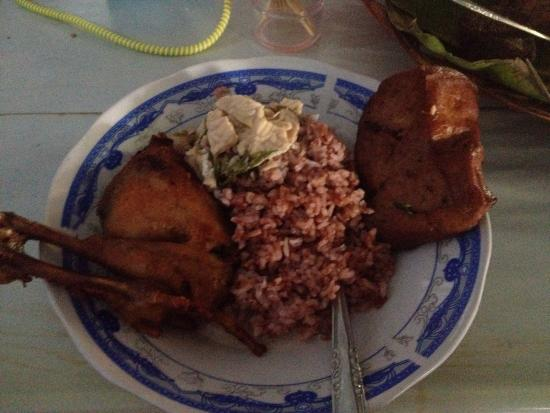Nasi Merah: (179, 151, 387, 347)
